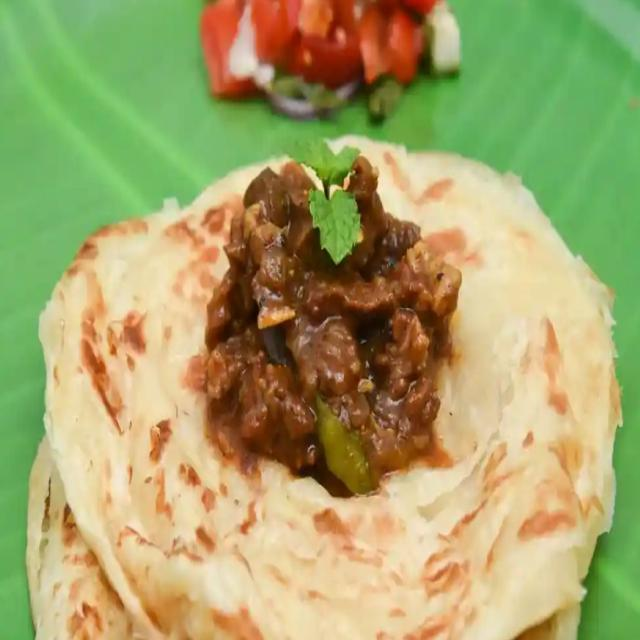CURRY: (203, 151, 459, 476)
PAROTTA: (22, 156, 619, 638)
